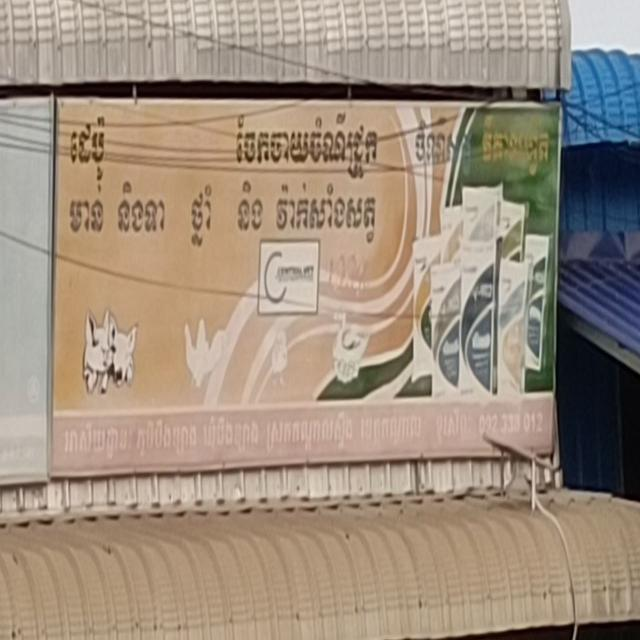4: (64, 175, 382, 256)
Yolov11kh: (230, 109, 384, 183), (64, 106, 112, 187)
